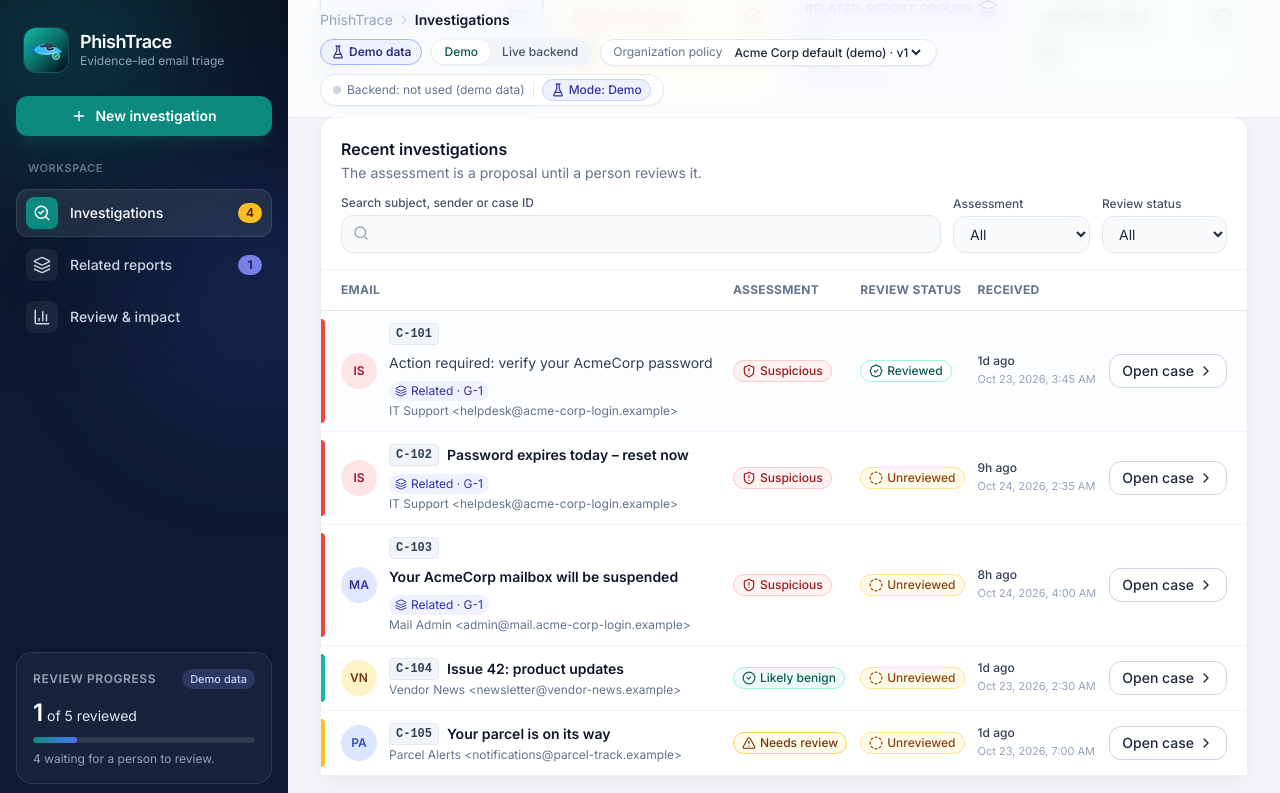
Test: human review › accepts a proposal, confirms only after the API resolves, and keeps the original beside the decision
The width and height of the screenshot is (1280, 793).
(page scrolled)
Click the button "Open case" in the row of "9h ago" at (1168, 478), box left=1109, top=461, right=1227, bottom=495
(page scrolled)
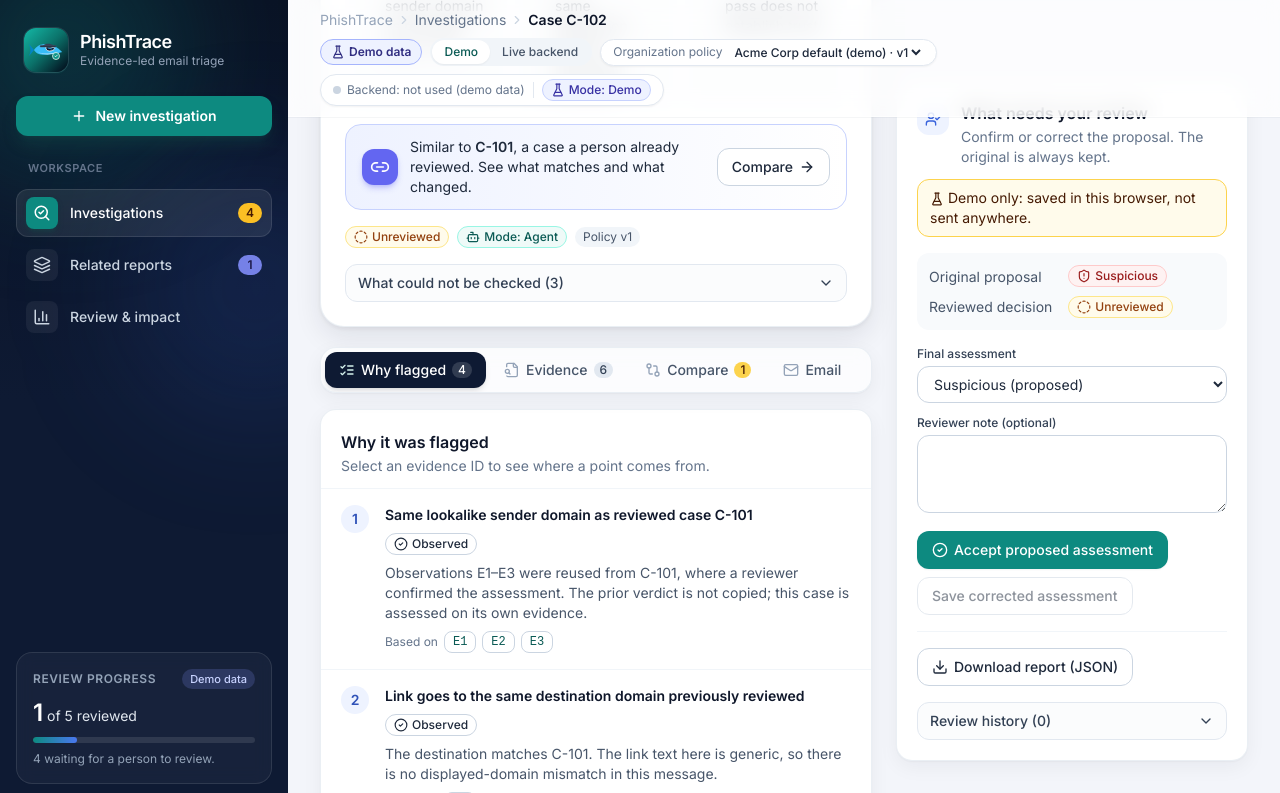
Now the heading "Why it was flagged" is shown, box left=341, top=432, right=489, bottom=452
Click the heading "Review history (0)" at (991, 720), box left=930, top=712, right=1214, bottom=729
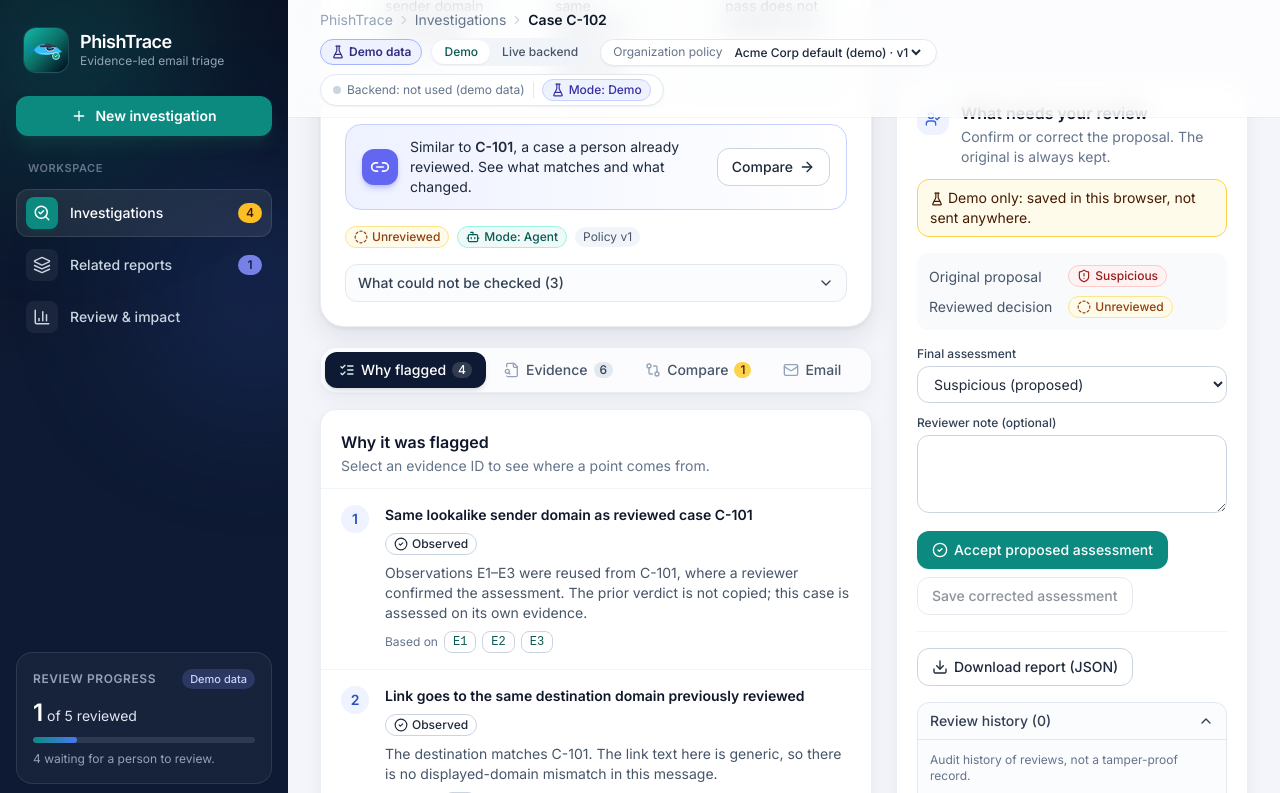
Type "Matches C-101 pattern." into the text box labelled "Reviewer note (optional)" at (1072, 474), box left=917, top=435, right=1227, bottom=513
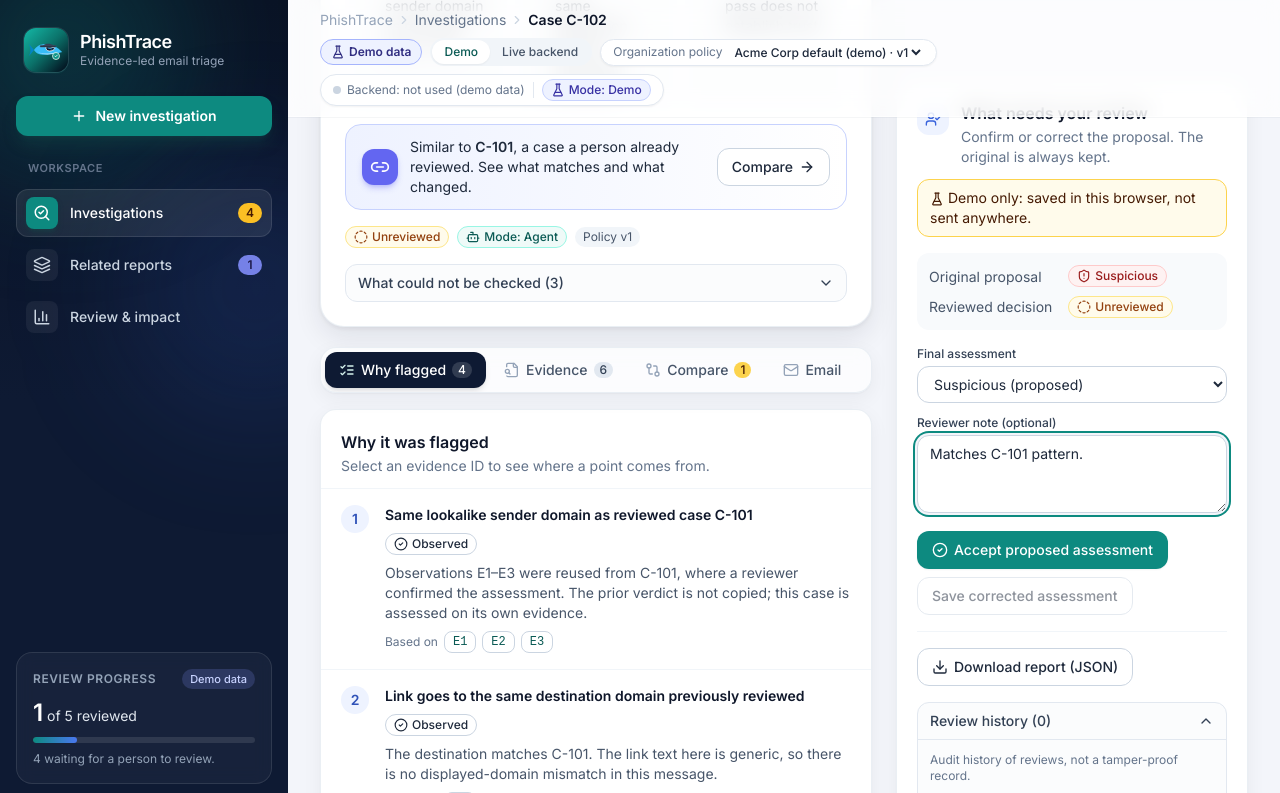
Click the button "Accept proposed assessment" at (1043, 550), box left=917, top=531, right=1168, bottom=569
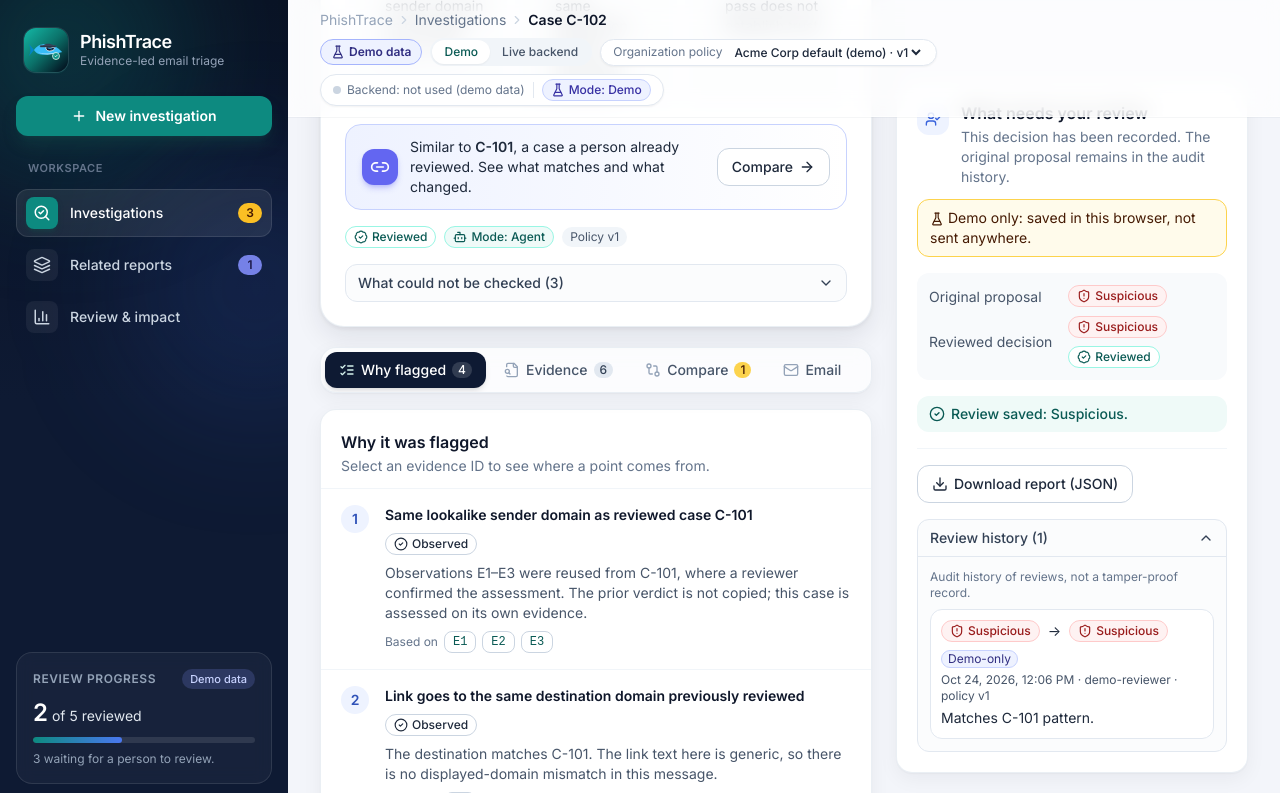
Now the 1st element showing "Suspicious" is shown, box left=1068, top=285, right=1167, bottom=307
Now the text "Review saved: Suspicious." is shown, box left=917, top=396, right=1227, bottom=432
Now the text "Demo-only" is shown, box left=941, top=650, right=1018, bottom=668
